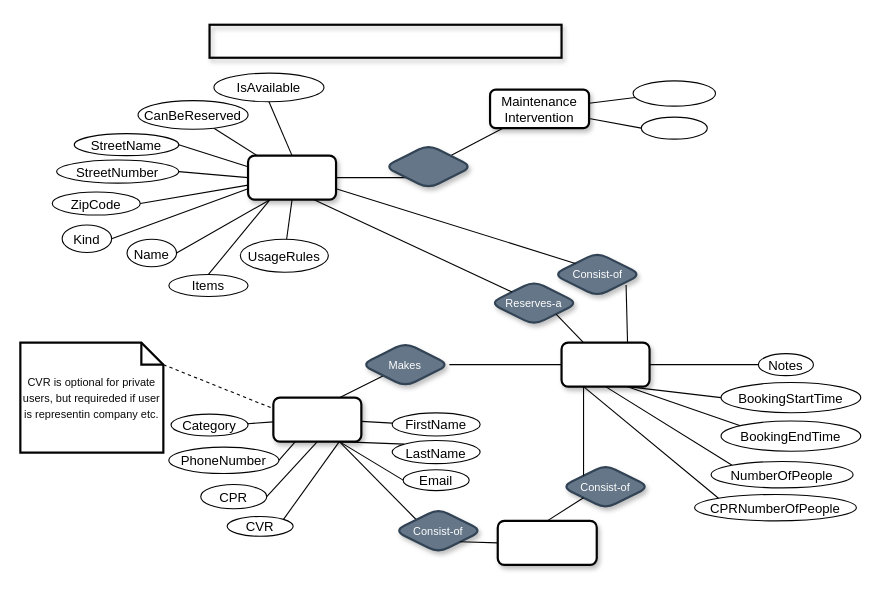
Some shapes in this 880 by 592 pixel diagram are drawn without their labels. The shapes that lost their labels are listed below. From the top down, each one's centre as x and y in pixels, then its label:
At (x=386, y=42): "Recreational Facility management system".
At (x=674, y=93): "Description".
At (x=673, y=127): "Date".
At (x=292, y=179): "Facility".
At (x=429, y=168): "Undergoes".
At (x=606, y=366): "Booking".
At (x=318, y=421): "Citizen".
At (x=548, y=544): "Reservation".
